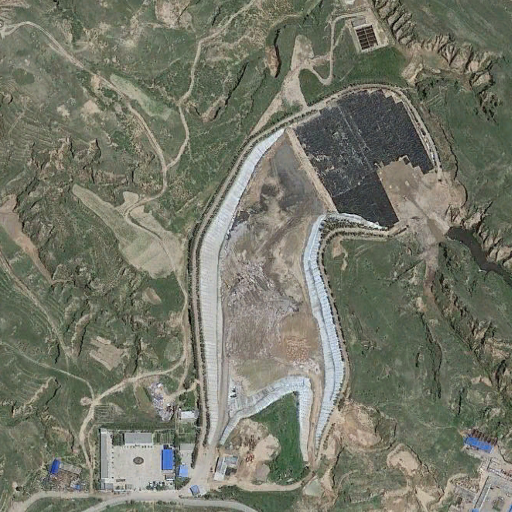lf: (192, 81, 441, 469)
